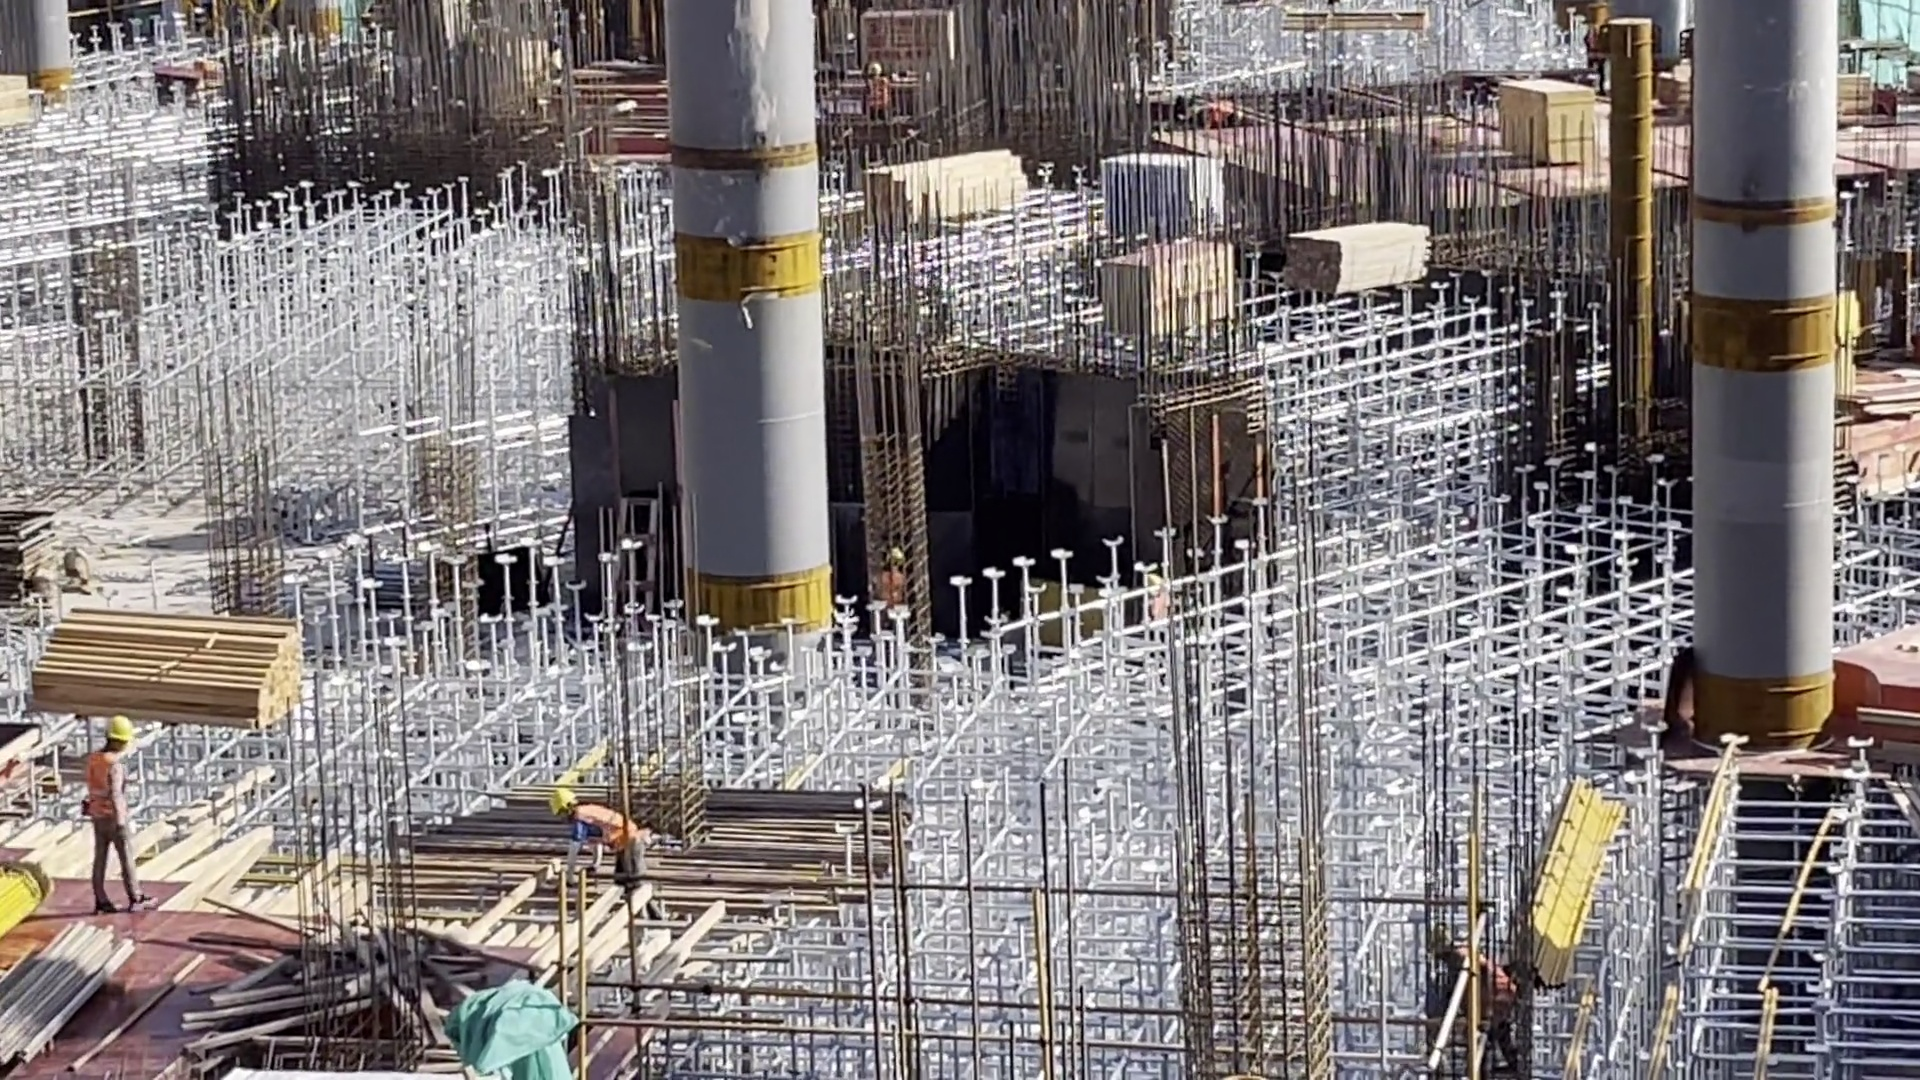helmet: (545, 787, 579, 825), (101, 721, 132, 759)
person: (74, 717, 151, 909), (550, 851, 661, 884)
rebar: (649, 794, 866, 913), (367, 781, 544, 906)
vest: (82, 758, 130, 824), (584, 803, 639, 850)
wood: (26, 601, 319, 745), (1273, 211, 1429, 292)
